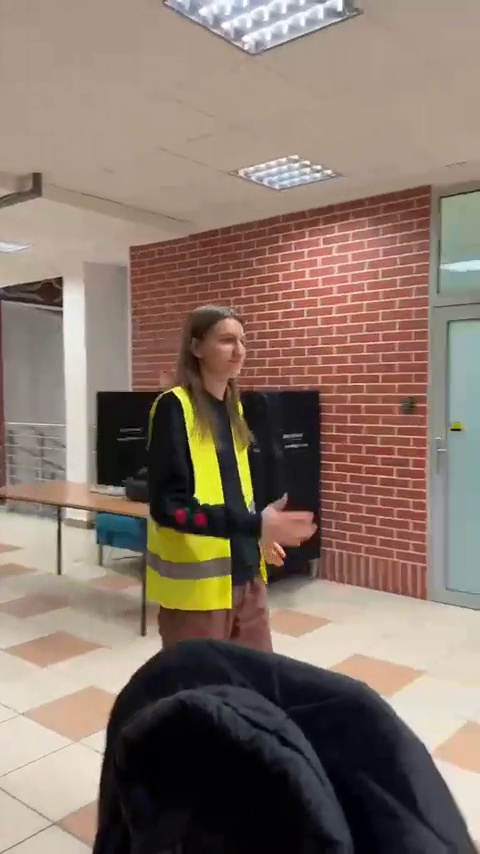vest: (139, 304, 295, 658)
